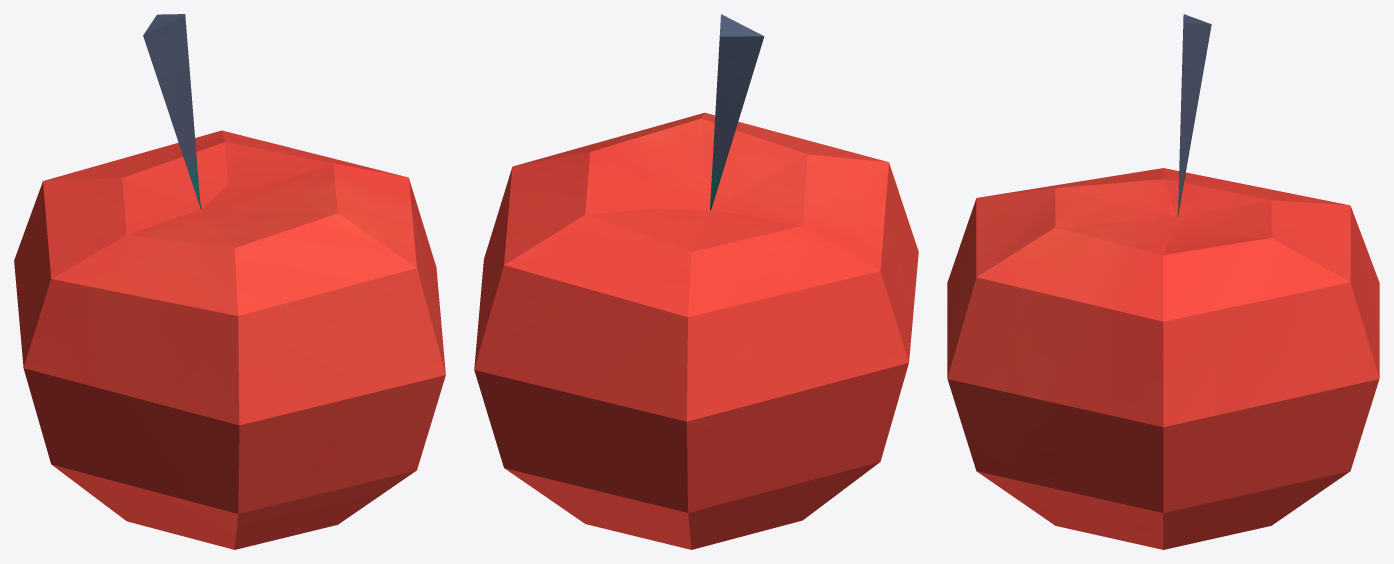
File: apple.fbx
3 renders of one model, left to right at view 1: azimuth 30°, elevation 25°; view 2: azimuth 150°, elevation 25°; view 3: azimuth 270°, elevation 25°, orthographic. The views are drawn at different scales.
Visible parts, largest first — view 1: pSphere19; view 2: pSphere19; view 3: pSphere19.
Boxes of the visible parts, box(x1,y1,x2,y2) form: pSphere19: box(14, 14, 445, 549); pSphere19: box(474, 14, 918, 549); pSphere19: box(947, 14, 1379, 549).
Bounding box in the file's own units: 0.0619 × 0.0731 × 0.0585.
